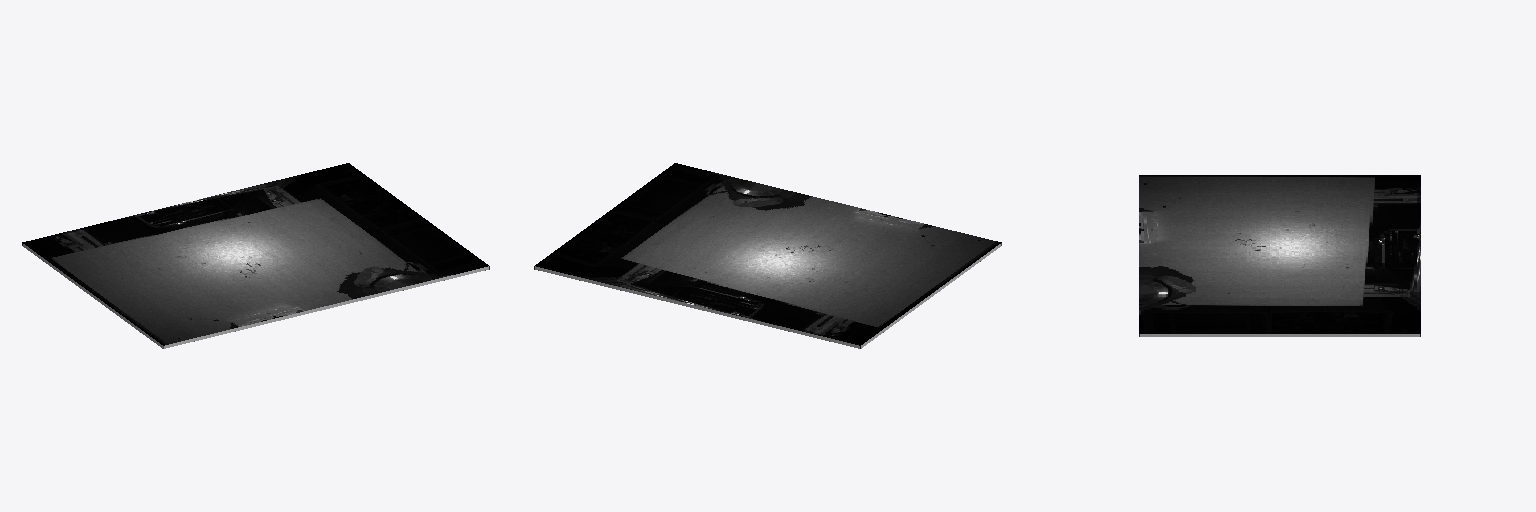
The picture shows the model from 3 angles: view 1: azimuth 30°, elevation 25°; view 2: azimuth 150°, elevation 25°; view 3: azimuth 270°, elevation 25°; orthographic projection.
Parts seen in each view (by area): view 1: Cube; view 2: Cube; view 3: Cube.
Part boxes in pixels (x1,y1,x2,y2): Cube: (22, 163, 489, 348); Cube: (534, 163, 1001, 348); Cube: (1139, 175, 1420, 336).
Bounding box in the file's own units: 2.06 × 0.02 × 1.54.
1 materials, 1 textured.